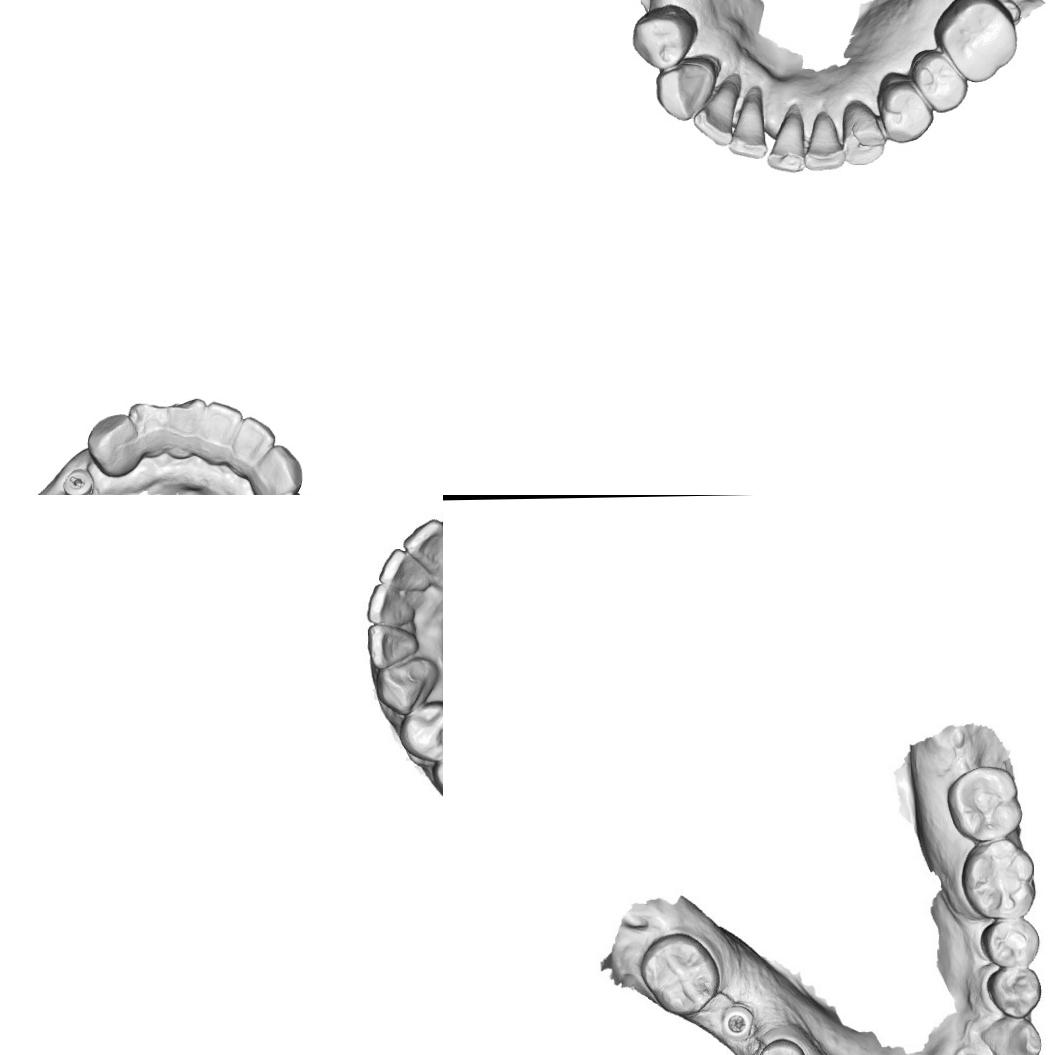canine: (652, 56, 718, 123), (85, 410, 145, 479), (375, 657, 432, 717), (842, 99, 887, 170), (250, 442, 304, 495), (982, 1015, 1044, 1055)
implant: (718, 1002, 762, 1046)
implant_minus: (60, 464, 98, 495)
incisor: (691, 81, 738, 150), (723, 93, 769, 161), (230, 408, 278, 471), (766, 104, 808, 176), (802, 110, 848, 175), (164, 395, 208, 461), (127, 398, 173, 460), (201, 398, 244, 464), (367, 581, 420, 634), (376, 548, 434, 593), (400, 518, 443, 575), (366, 624, 423, 664)
molar: (930, 0, 1020, 84), (638, 934, 717, 1016), (961, 840, 1038, 921), (946, 766, 1021, 844)
premolar: (628, 3, 700, 74), (874, 69, 934, 146), (908, 47, 968, 115), (984, 964, 1044, 1018), (981, 916, 1038, 972), (396, 699, 443, 762), (752, 1039, 805, 1055)
